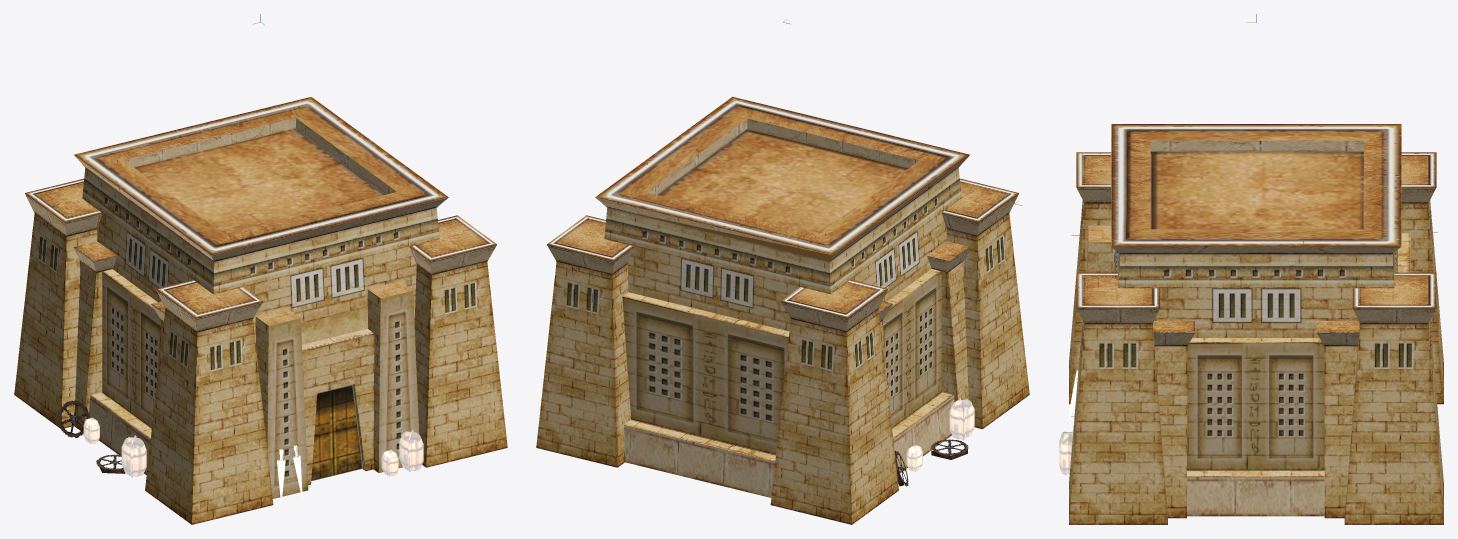
Rendered from idle.glb.
The picture shows the model from 3 angles, left to right: view 1: azimuth 30°, elevation 25°; view 2: azimuth 150°, elevation 25°; view 3: azimuth 270°, elevation 25°; orthographic projection. The views are drawn at different scales.
Visible parts, largest first — view 1: building e fortress age3Model; view 2: building e fortress age3Model; view 3: building e fortress age3Model.
Part boxes in pixels (box(x1,y1,x2,y2)): building e fortress age3Model: box(14, 97, 507, 524); building e fortress age3Model: box(536, 96, 1029, 524); building e fortress age3Model: box(1059, 124, 1443, 524).
Size of the model in its own units: 10.41 by 12.36 by 9.97.
6 materials, 5 textured.
